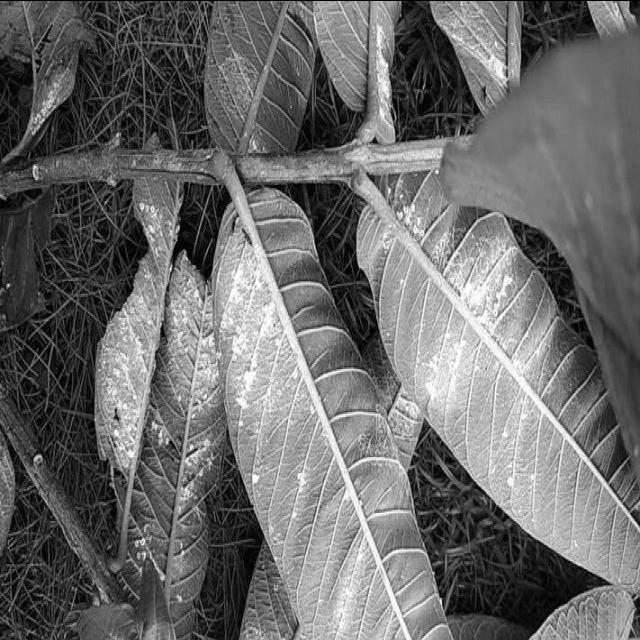Whitefly: (375, 163, 572, 544), (120, 246, 228, 624), (213, 205, 325, 566), (302, 352, 424, 640), (95, 170, 181, 522), (426, 0, 521, 112), (201, 38, 273, 154), (26, 0, 78, 150), (368, 19, 397, 144)
